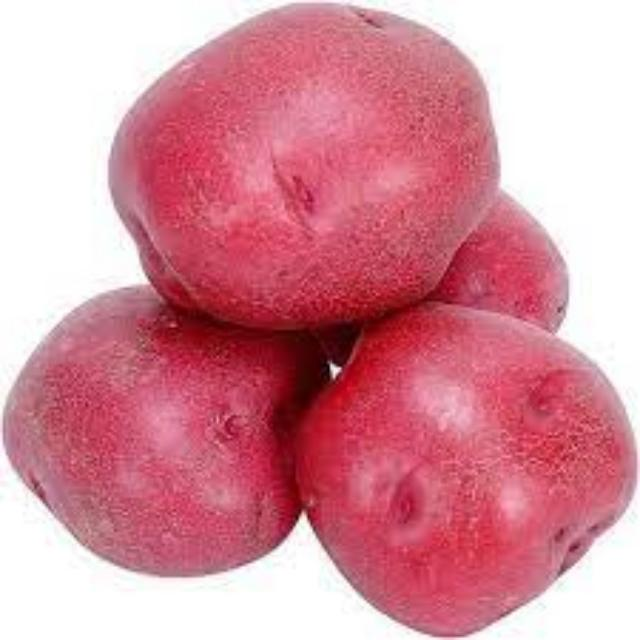Defected potato: (104, 0, 506, 338), (290, 298, 638, 640), (1, 283, 336, 589)
